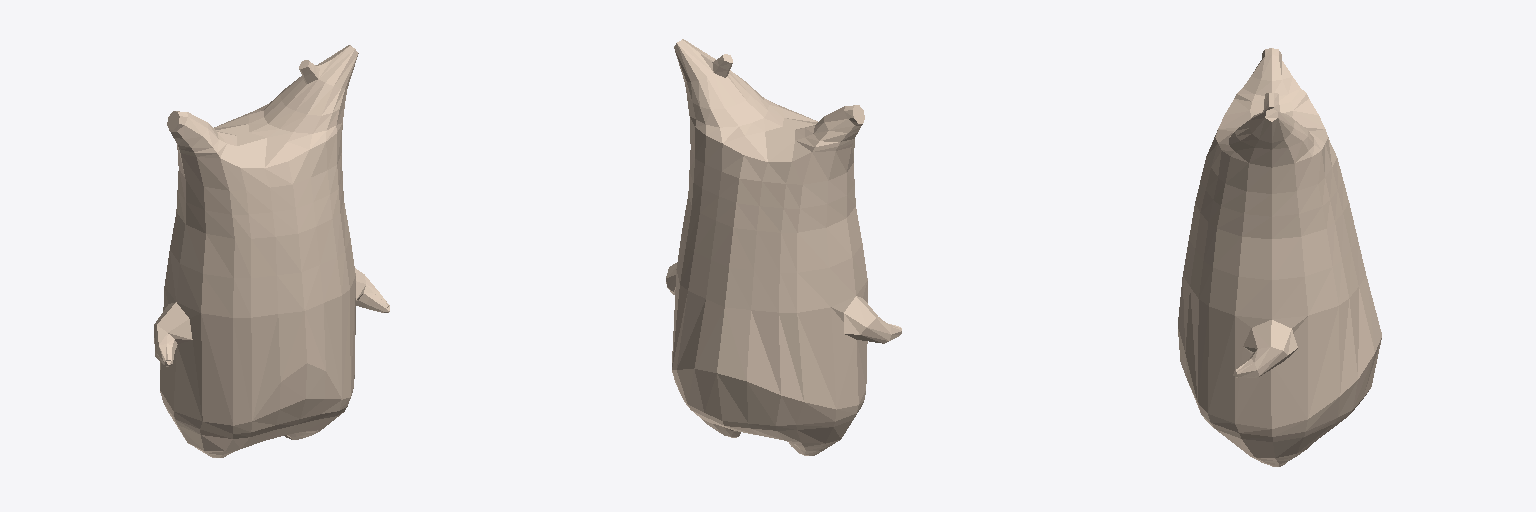
Rendered from frame_0008.obj.
3 views of the same model, side by side, from view 1: azimuth 30°, elevation 25°; view 2: azimuth 150°, elevation 25°; view 3: azimuth 270°, elevation 25° (orthographic).
Parts seen in each view (by area): view 1: korok; view 2: korok; view 3: korok.
Part boxes in pixels (left/top/right/bottom): korok: left=154, top=45, right=389, bottom=457; korok: left=666, top=39, right=901, bottom=455; korok: left=1178, top=48, right=1381, bottom=466.
Size of the model in its own units: 1.37 by 2.2 by 1.07.